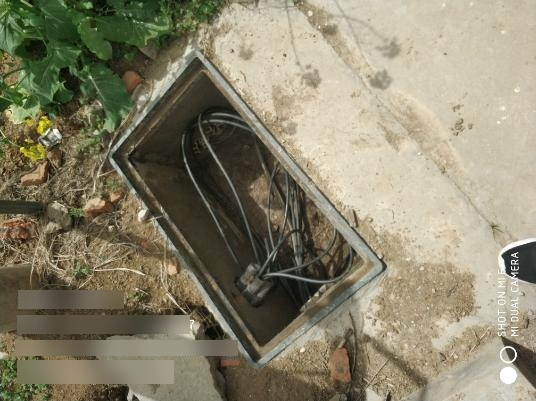lose: (107, 49, 385, 375)
